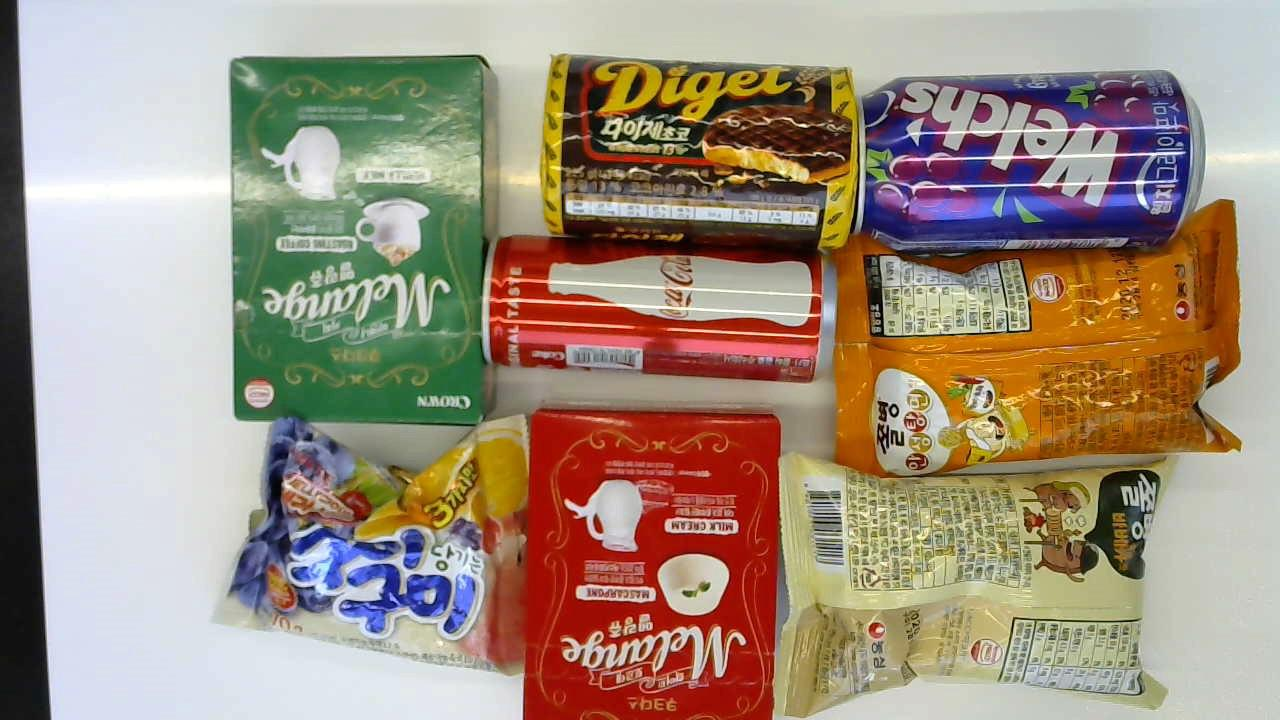coke: (479, 228, 845, 384)
couque_coffee: (227, 44, 503, 421)
couque_white: (531, 398, 783, 720)
diget_ori: (528, 39, 859, 256)
gumi_gumi: (206, 401, 531, 685)
jjolbyung_noodle: (820, 213, 1250, 462)
jjolbyung_ori: (769, 429, 1178, 711)
welchs: (844, 62, 1209, 247)
